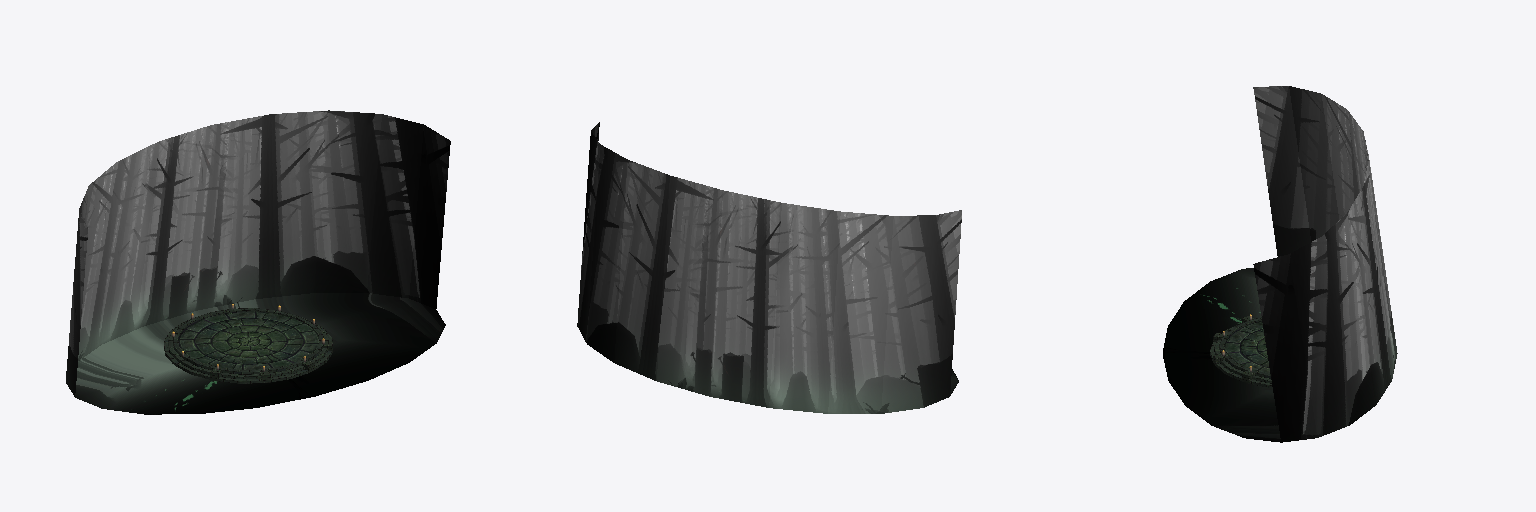
3 renders of one model, left to right at view 1: azimuth 30°, elevation 25°; view 2: azimuth 150°, elevation 25°; view 3: azimuth 270°, elevation 25°, orthographic.
Size of the model in its own units: 148 by 76.78 by 83.2.
Materials: 1 (1 with a texture image).